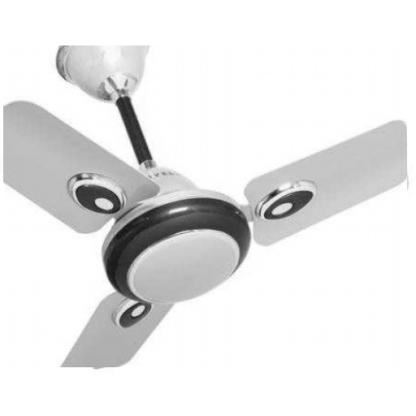ceiling-fan: (3, 46, 408, 368)
